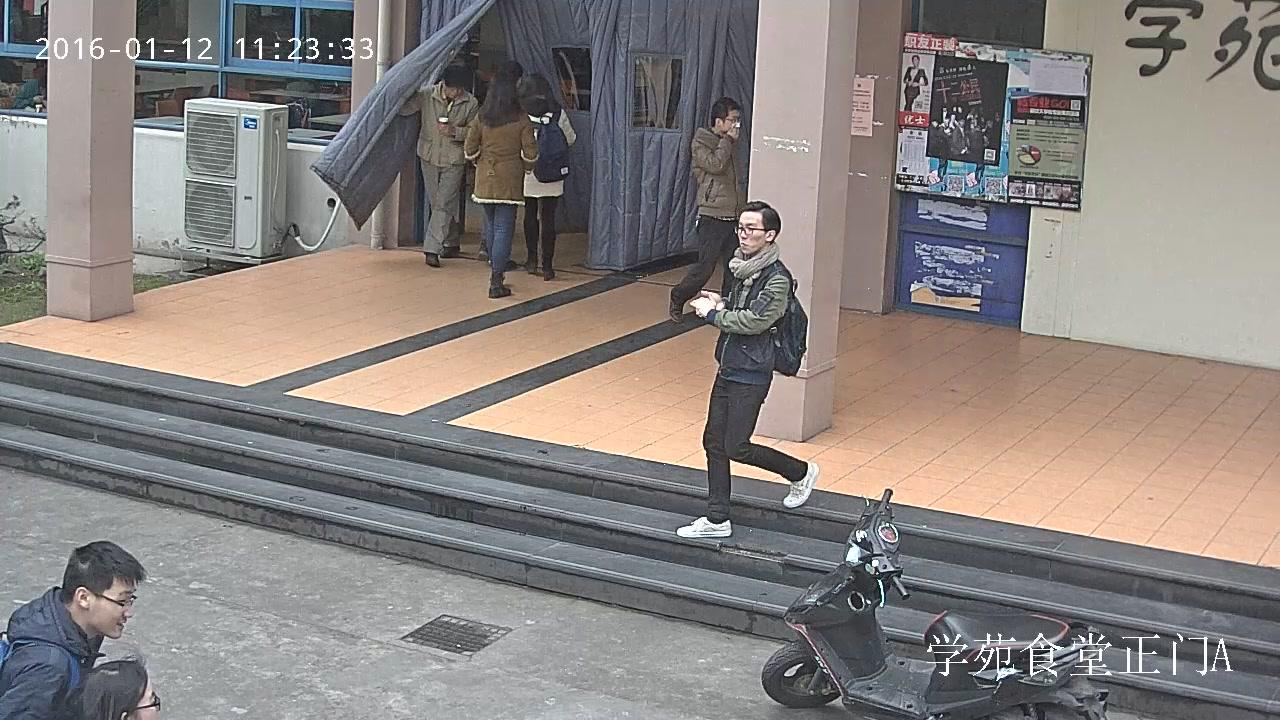person: (676, 200, 819, 538), (0, 540, 148, 719), (668, 96, 747, 325), (463, 71, 540, 298), (396, 65, 479, 268), (514, 73, 577, 282), (903, 55, 927, 110), (15, 74, 47, 109)
